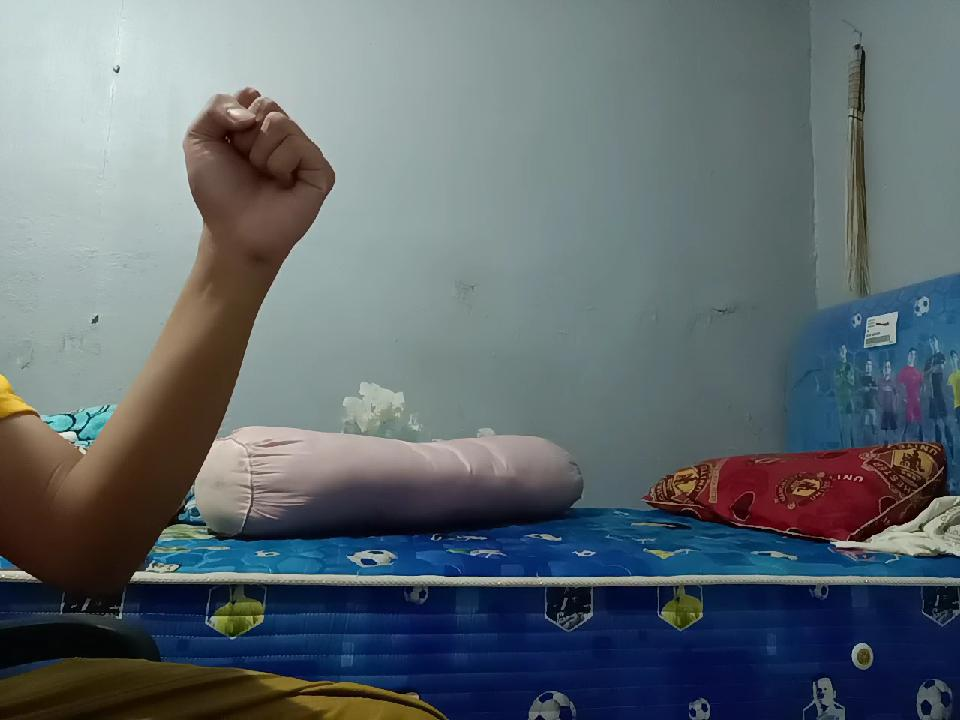rock: (170, 70, 341, 280)
